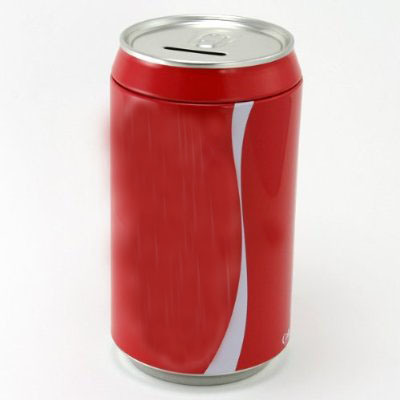coke: (135, 95, 258, 360)
